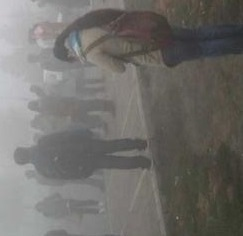person: (52, 7, 243, 73), (13, 128, 153, 177), (31, 192, 105, 218), (23, 96, 120, 115), (24, 47, 93, 71), (25, 168, 106, 188), (25, 78, 110, 96), (27, 117, 112, 132), (28, 21, 70, 38), (27, 36, 58, 47)
